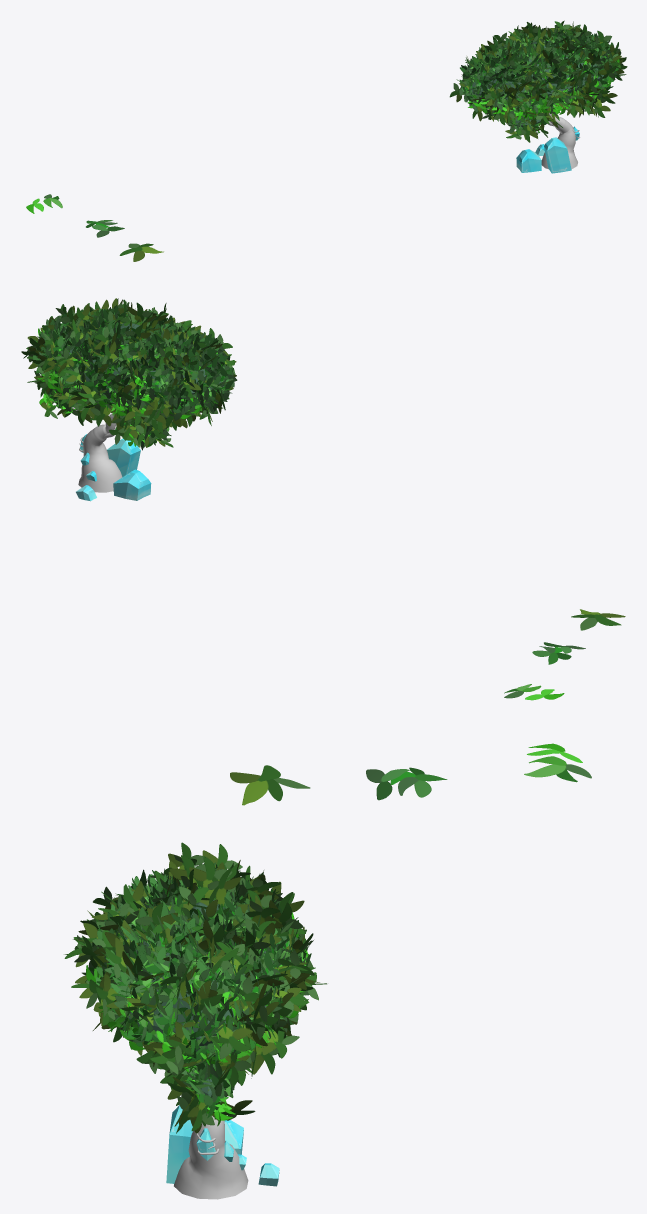
File: pohon whimsical1.fbx
3 renders of one model, top to bottom at view 1: azimuth 30°, elevation 25°; view 2: azimuth 150°, elevation 25°; view 3: azimuth 270°, elevation 25°, orthographic. The views are drawn at different scales.
Visible parts, largest first — view 1: batu.001, daun phon.004, pohon1.001, daun1, daun2; view 2: batu.001, pohon1.001; view 3: pohon1.001, batu.001, daun2, daun1, Plane, daun phon.004, daun phon.004|daun1|Dupli|74.
Part boxes in pixels (bbox=[...]): batu.001: bbox=[516, 126, 579, 173]; daun phon.004: bbox=[470, 40, 603, 127]; pohon1.001: bbox=[541, 103, 580, 169]; daun1: bbox=[119, 243, 163, 261]; daun2: bbox=[86, 220, 124, 237]; batu.001: bbox=[76, 434, 151, 501]; pohon1.001: bbox=[71, 407, 122, 492]; pohon1.001: bbox=[174, 1116, 248, 1199]; batu.001: bbox=[166, 1105, 279, 1186]; daun2: bbox=[366, 767, 447, 800]; daun1: bbox=[230, 765, 310, 805]; Plane: bbox=[524, 743, 591, 782]; daun phon.004: bbox=[108, 900, 268, 1097]; daun phon.004|daun1|Dupli|74: bbox=[211, 1024, 252, 1059].
Size of the model in its own units: 2837 by 790 by 1284.
